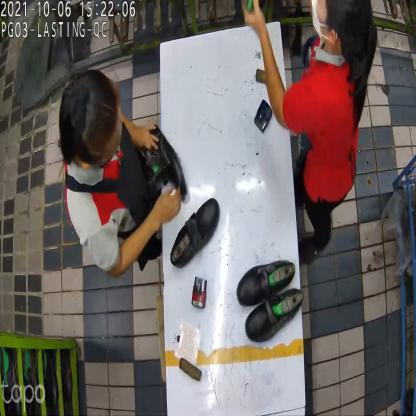shoes: (146, 125, 221, 268), (237, 258, 302, 344)
stamp: (189, 277, 209, 312), (254, 98, 273, 132)
